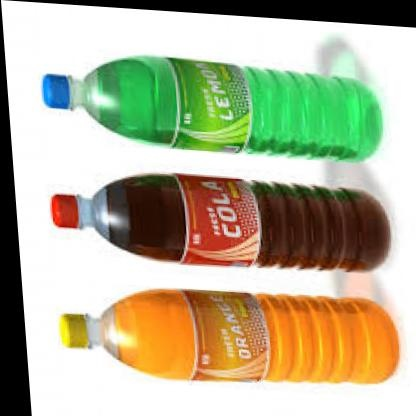trash: (51, 174, 389, 270), (82, 56, 381, 159), (100, 290, 398, 382)
